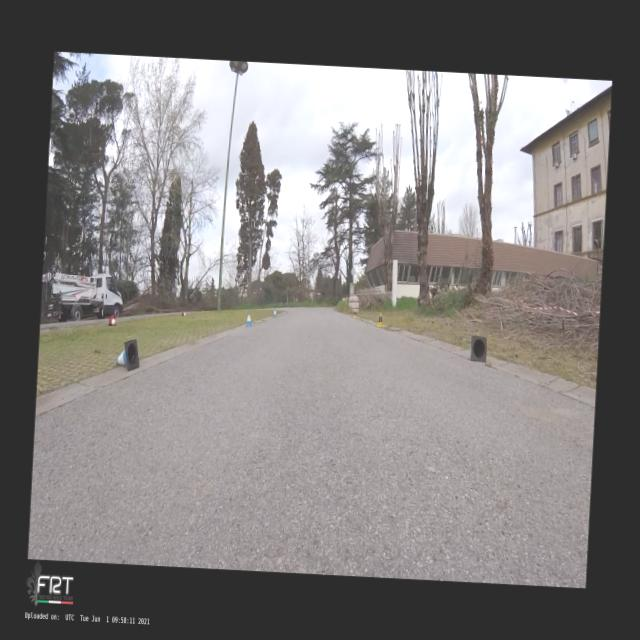blue_cone: (115, 338, 141, 372), (245, 312, 254, 328), (272, 307, 278, 318)
orange_cone: (109, 314, 118, 326), (181, 311, 187, 317)
unknown_cone: (470, 336, 487, 364)
yellow_cone: (376, 311, 384, 328), (353, 309, 358, 319)
